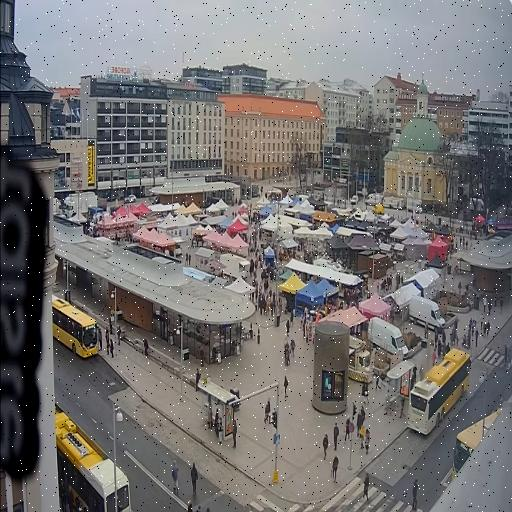Bus: (54, 404, 114, 511), (407, 348, 470, 435), (452, 409, 499, 476), (51, 296, 100, 357)
Delivery: (367, 317, 407, 359), (408, 296, 444, 329), (348, 336, 373, 383)
